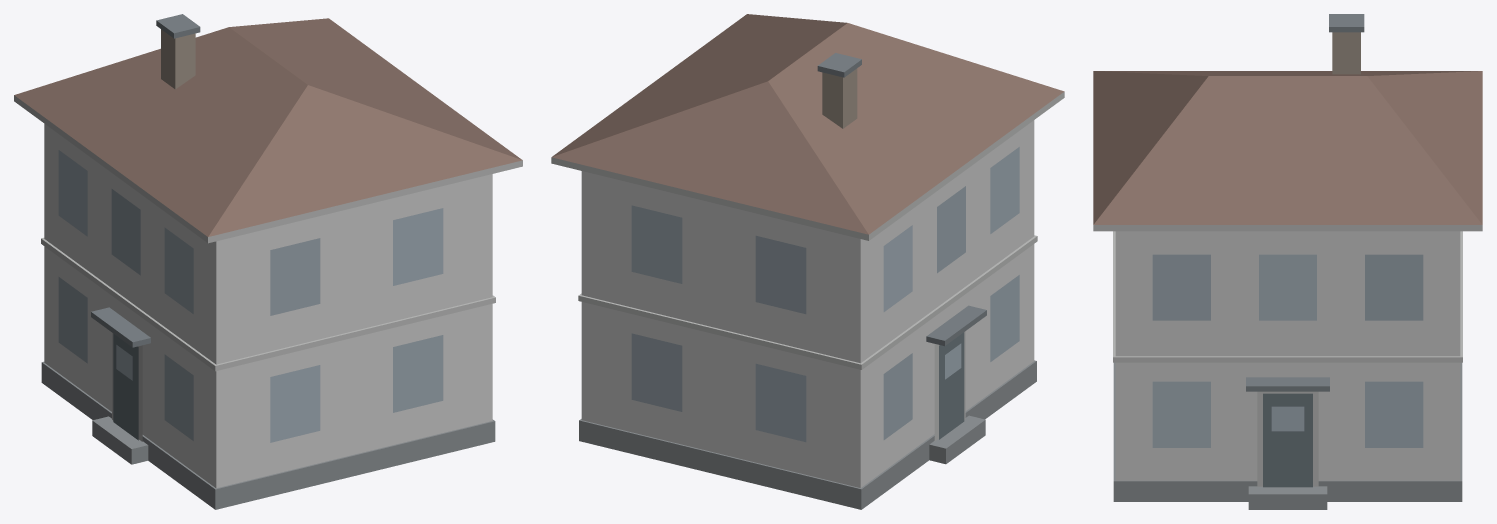
The model's file is home_3.glb.
3 views of the same model, side by side, from view 1: azimuth 30°, elevation 25°; view 2: azimuth 150°, elevation 25°; view 3: azimuth 270°, elevation 25° (orthographic).
Visible parts, largest first — view 1: home_3; view 2: home_3; view 3: home_3.
Boxes of the visible parts, x1,y1,x2,y2 form: home_3: (14,14,522,509); home_3: (551,14,1064,509); home_3: (1093,14,1482,509).
Bounding box in the file's own units: 7.4 × 8.58 × 7.9.
